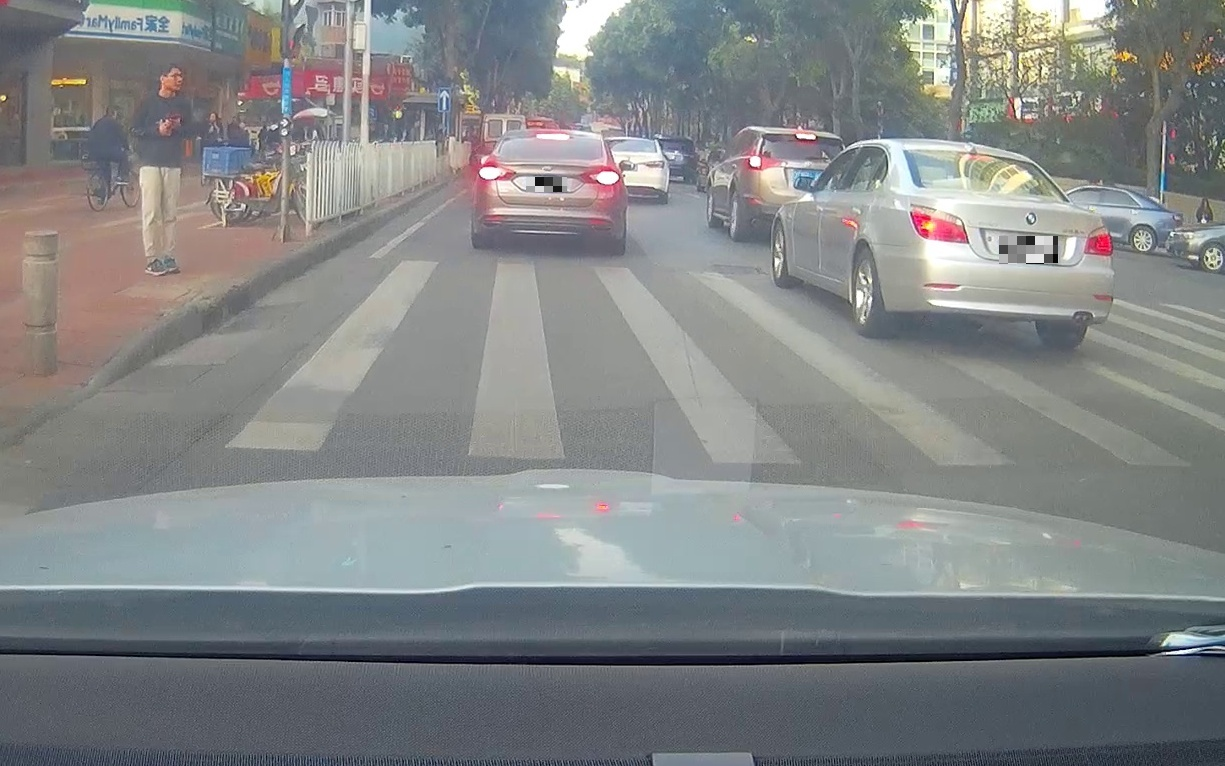L_light: (907, 202, 970, 245), (476, 162, 515, 181)
R_light: (1082, 225, 1114, 256), (588, 167, 620, 186)
T_light: (536, 132, 570, 141), (967, 152, 993, 162)
day-brake: (471, 128, 626, 255)
day-left: (899, 138, 1116, 347)
plate_1: (526, 177, 567, 192)
plate_2: (999, 236, 1058, 264)
